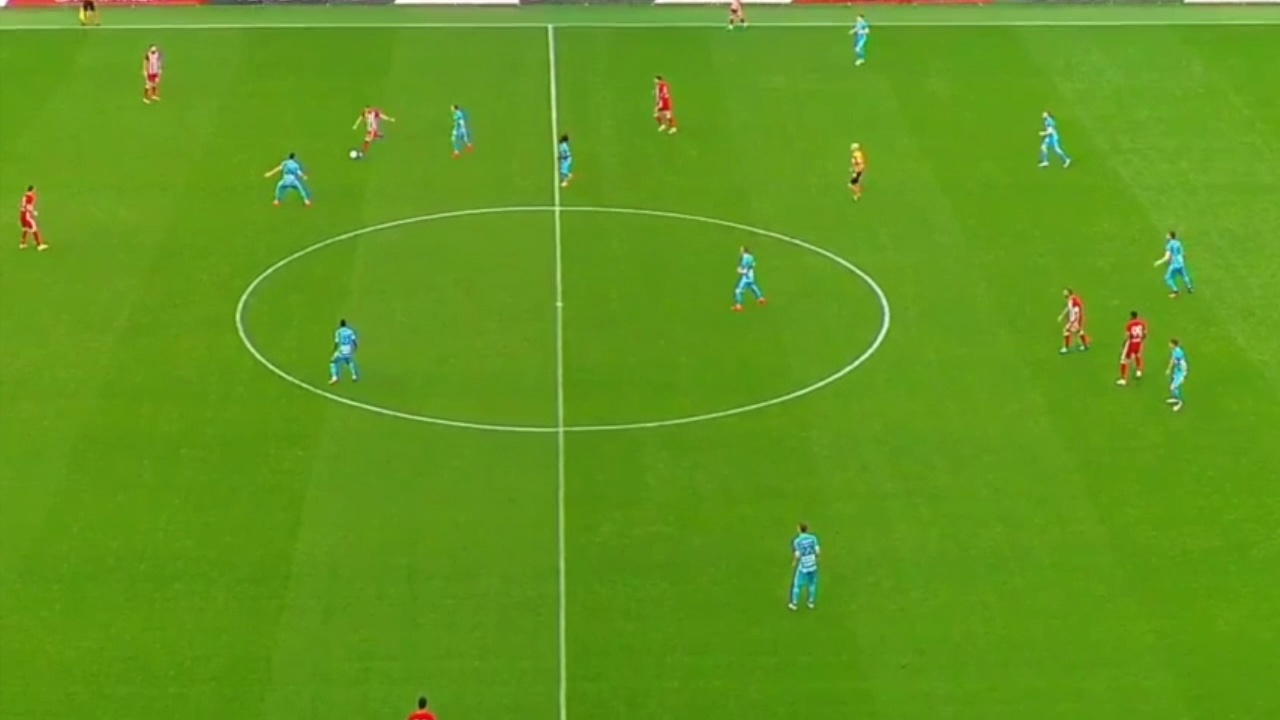ball: (347, 148, 360, 160)
person: (724, 243, 770, 315), (1153, 227, 1193, 295), (10, 181, 49, 250), (643, 72, 685, 134), (267, 150, 310, 209), (1057, 286, 1092, 356), (789, 525, 817, 609), (327, 320, 364, 383), (1117, 311, 1149, 381), (445, 101, 485, 156), (1167, 334, 1191, 412), (1035, 109, 1066, 169), (552, 129, 581, 191), (356, 105, 395, 151), (138, 43, 163, 101), (853, 16, 871, 63)
